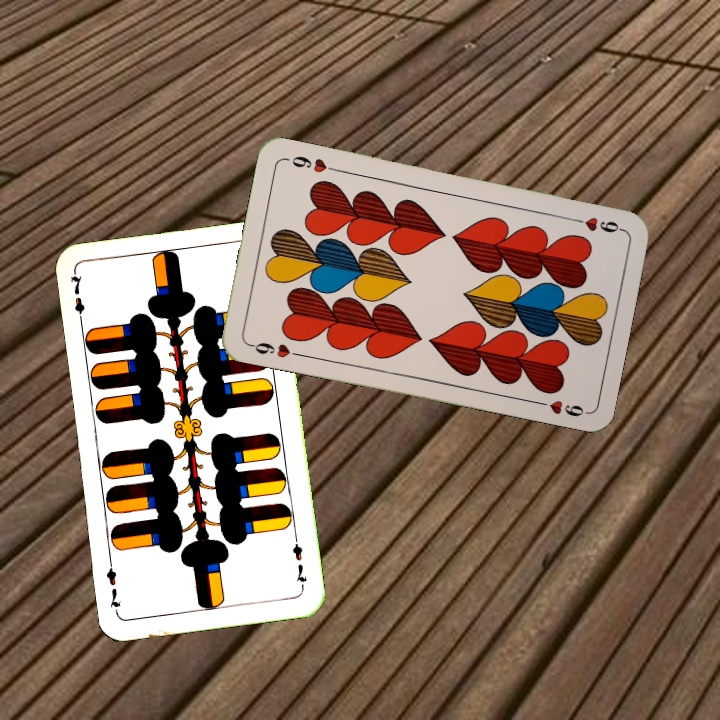E7: (288, 532, 310, 591), (66, 269, 88, 328)
H9: (245, 338, 303, 361), (566, 213, 624, 236)
